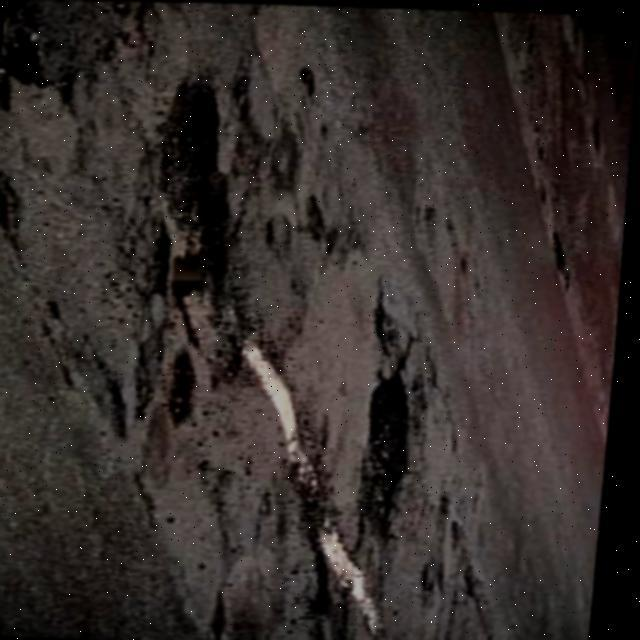pothole: (142, 66, 265, 335), (355, 362, 431, 544)
